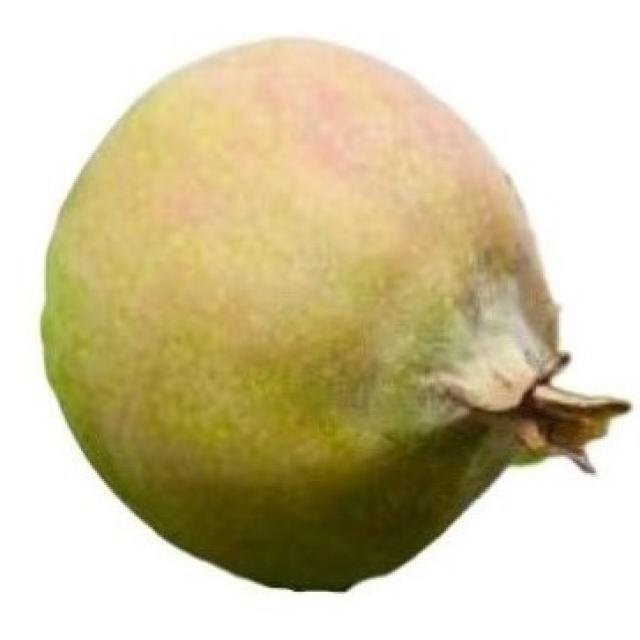50-_ripeness: (42, 32, 605, 596)
